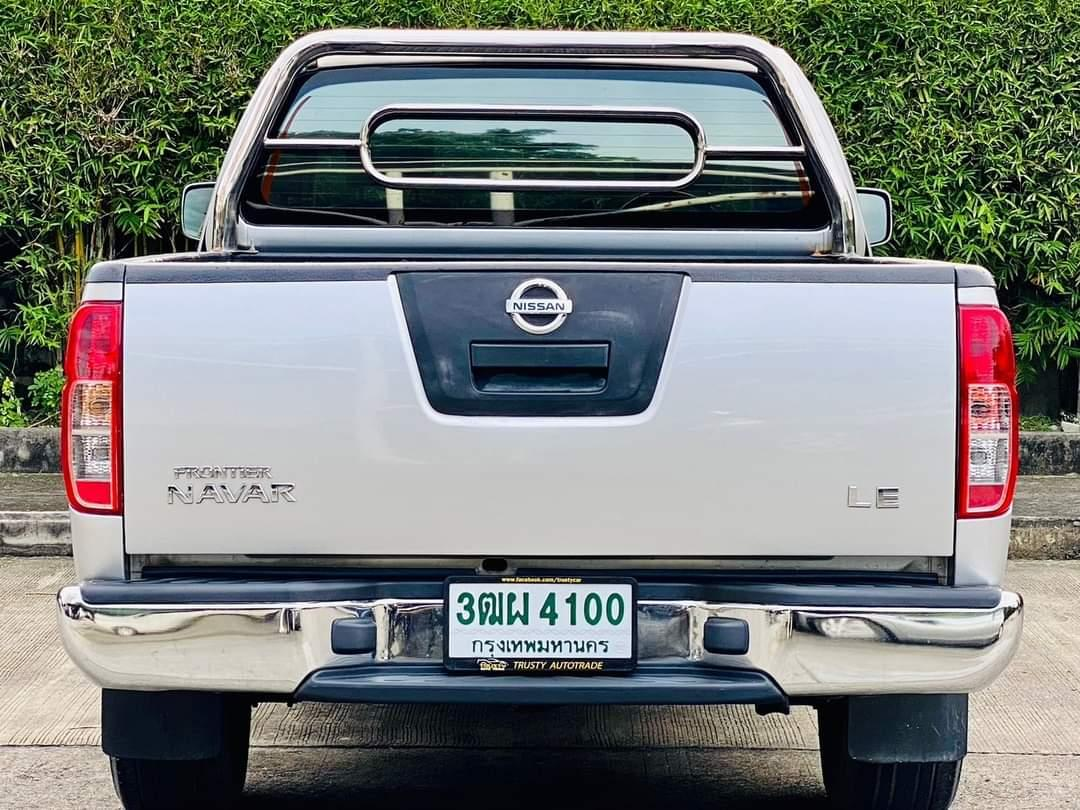license-plate: (440, 572, 638, 676)
